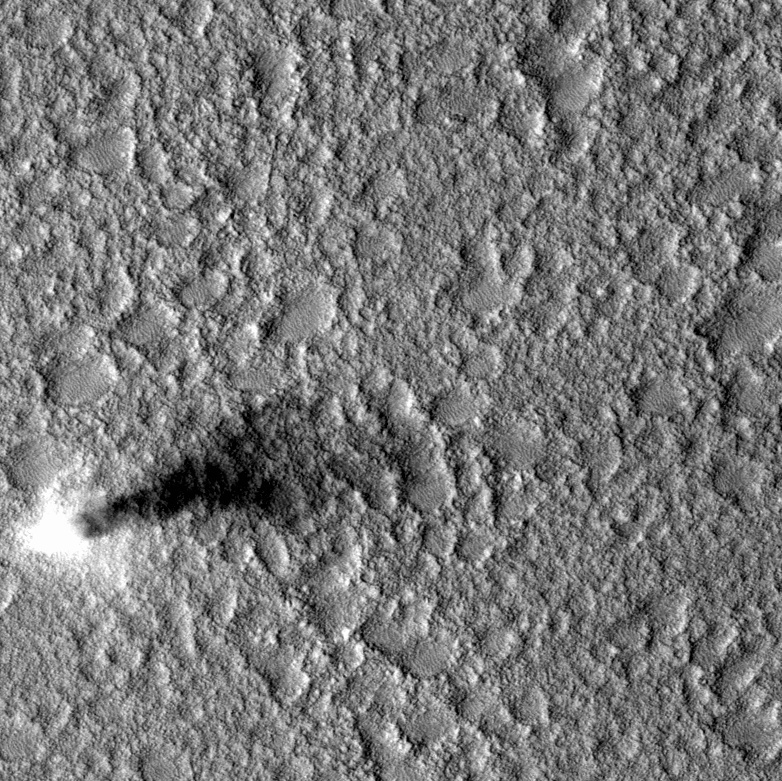dust_devil: (11, 388, 331, 562)
